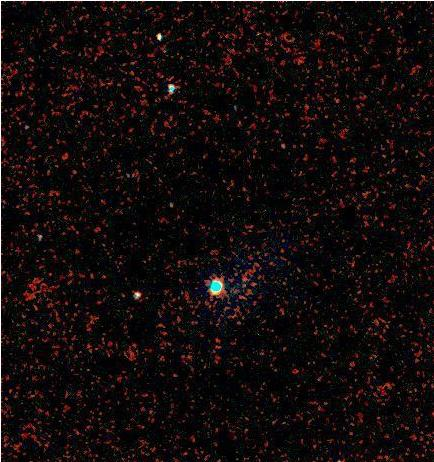star: (323, 440, 353, 462)
